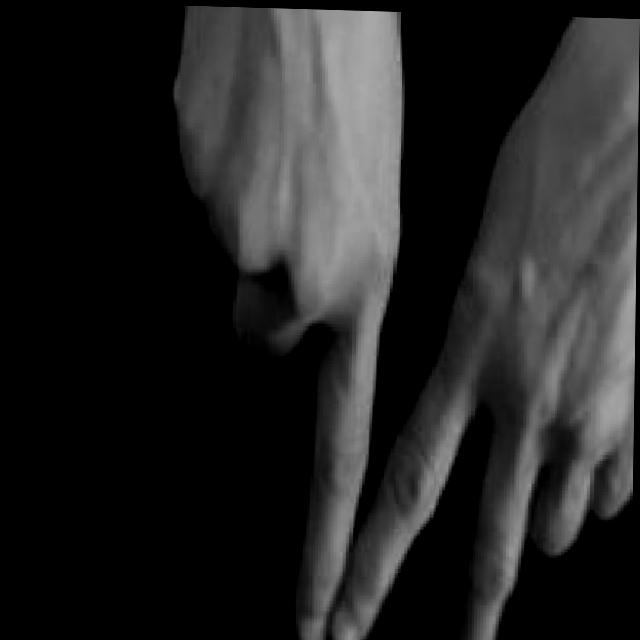N: (166, 5, 640, 640)
